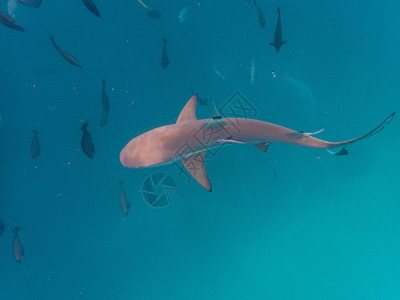shark: (122, 91, 400, 193)
